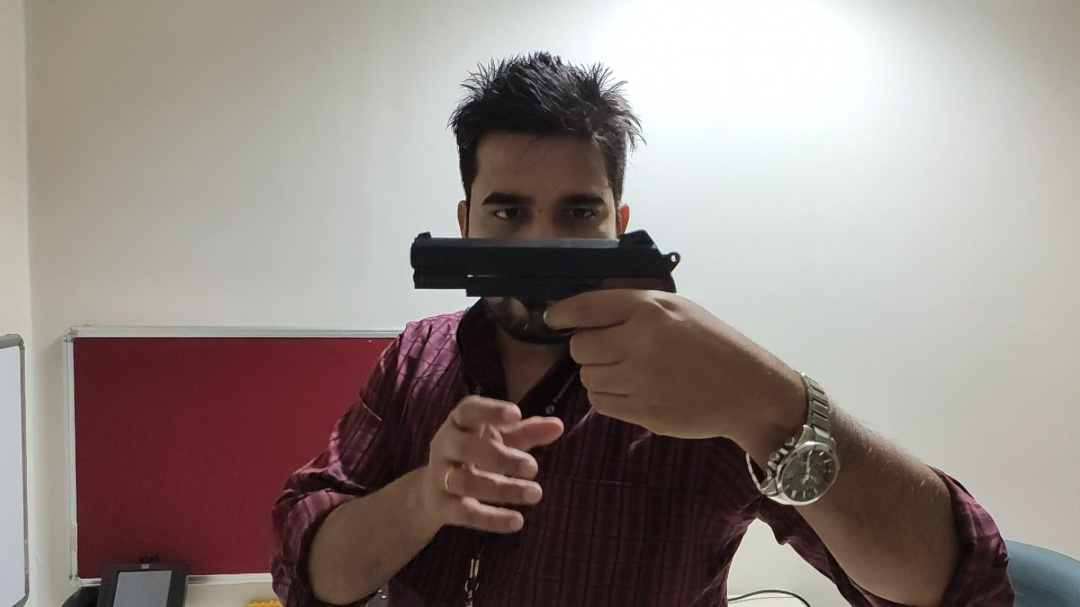gun: (409, 228, 679, 420)
